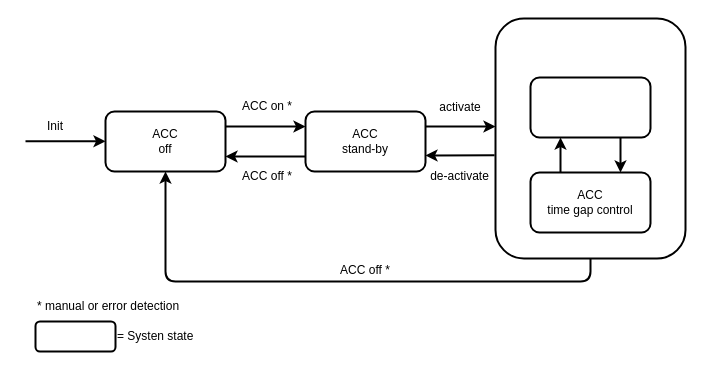
The diagram is 703 pixels wide and 369 high, and some of its shapes have lost their labels. Each missing label, with the box of its shape:
ACC Activ: (494, 17, 686, 259)
ACC speed control: (529, 76, 651, 138)
